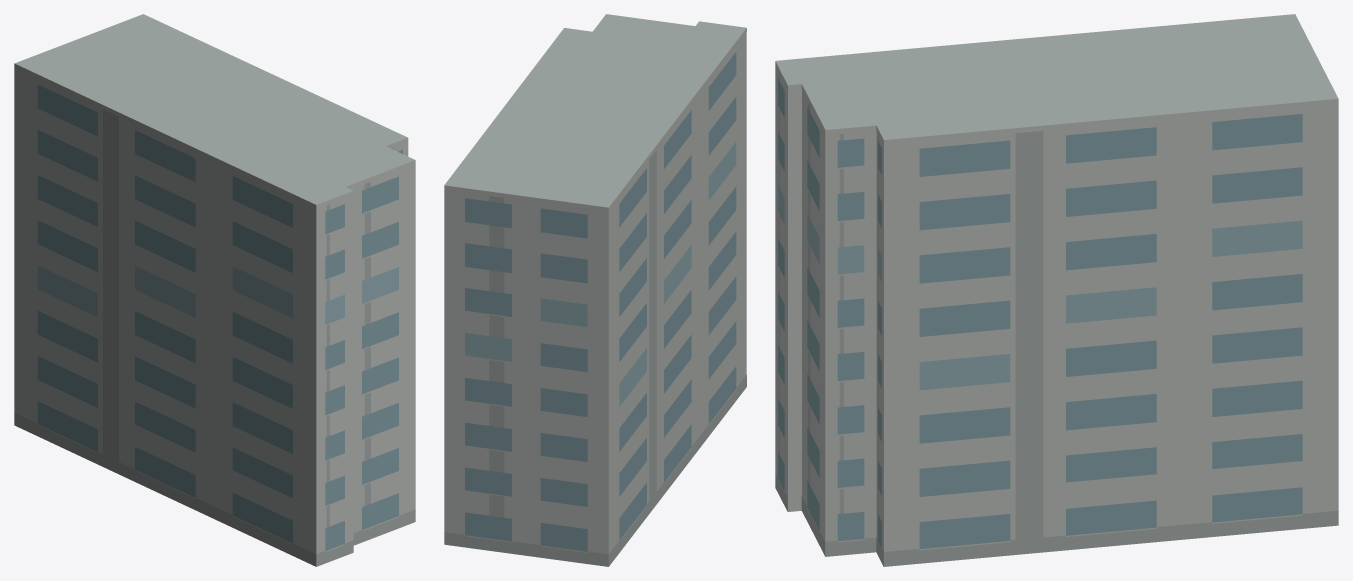
Rendered from survey-upis-32826527.glb.
3 renders of one model, left to right at view 1: azimuth 30°, elevation 25°; view 2: azimuth 150°, elevation 25°; view 3: azimuth 270°, elevation 25°, orthographic. The views are drawn at different scales.
Visible parts, largest first — view 1: survey-upis-32826527.tmp; view 2: survey-upis-32826527.tmp; view 3: survey-upis-32826527.tmp.
Boxes of the visible parts, <box> form: survey-upis-32826527.tmp: <box>14,14,415,566</box>; survey-upis-32826527.tmp: <box>444,14,746,566</box>; survey-upis-32826527.tmp: <box>775,14,1338,566</box>.
Size of the model in its own units: 12.63 by 19.9 by 23.82.
